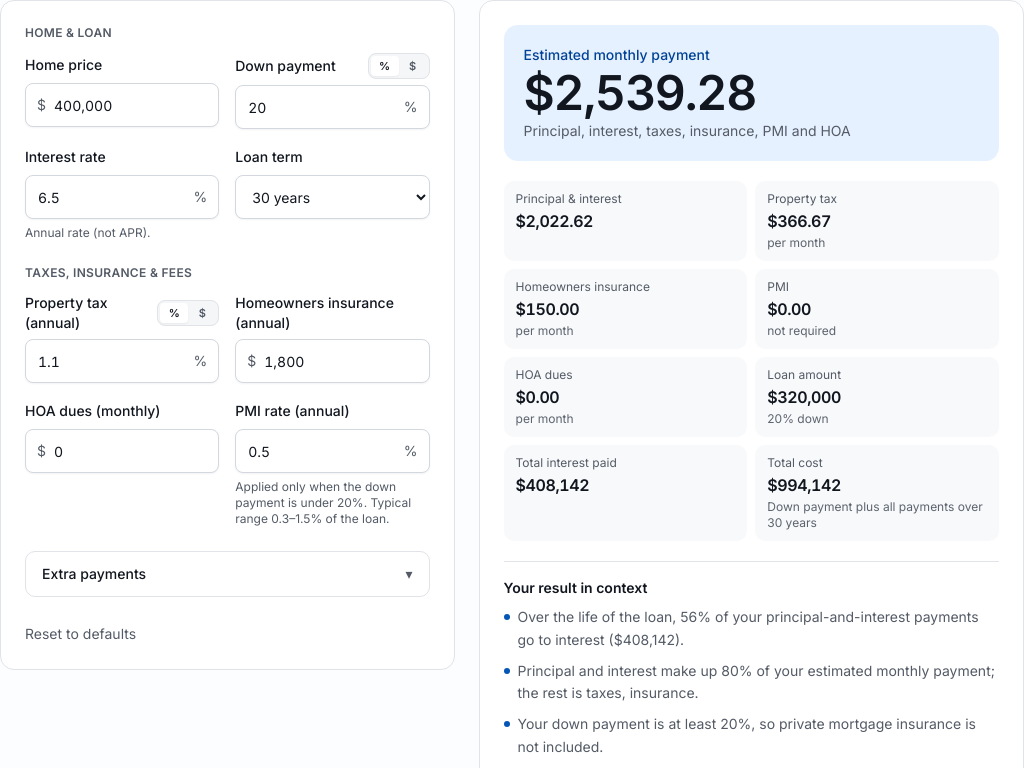
CalculatorEngine › converts the down payment when switching between % and $
The image size is (1024, 768).
Click the button named "Dollar amount" at x=412, y=66, box 398,56 -> 426,76
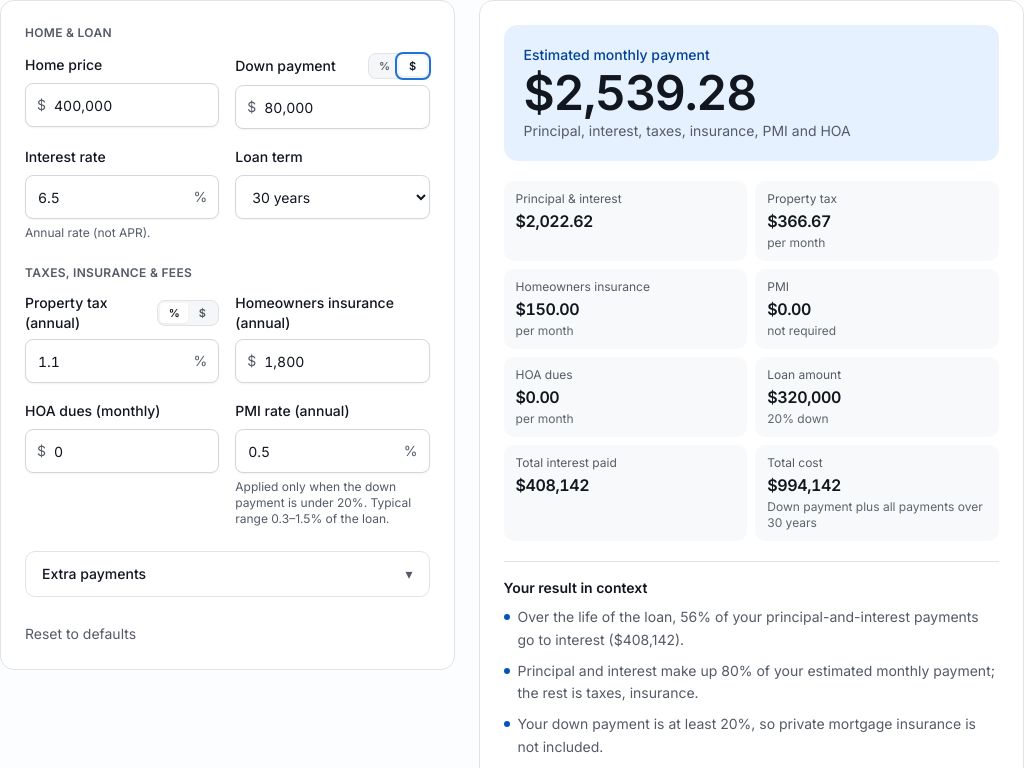
Expected: the text with test id "primary-result" reads "$2,539.28", 524,63 -> 756,122
Now the field labelled "Down payment" holds "80,000", box 235,85 -> 430,129
